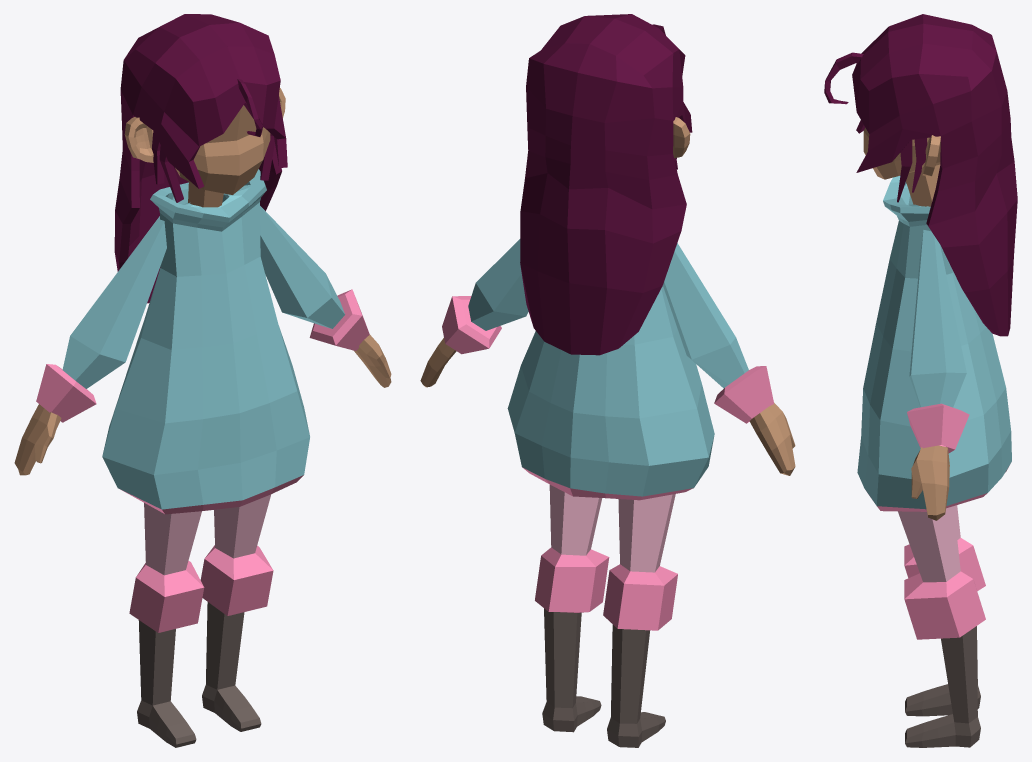
Rendered from lara.fbx.
3 views of the same model, side by side, from view 1: azimuth 30°, elevation 25°; view 2: azimuth 150°, elevation 25°; view 3: azimuth 270°, elevation 25° (orthographic).
Visible parts, largest first — view 1: body, hair, legs, arms, head, hands, ears, neck; view 2: hair, body, legs, arms, hands; view 3: hair, body, legs, arms, hands, neck, head, hairtail, ears.
Boxes of the visible parts, x1,y1,x2,y2 form: body: [102, 169, 309, 514]; hair: [114, 14, 287, 303]; legs: [129, 494, 273, 747]; arms: [36, 206, 369, 422]; head: [175, 105, 270, 194]; hands: [14, 334, 391, 475]; ears: [124, 88, 285, 162]; neck: [188, 182, 223, 207]; hair: [520, 14, 692, 355]; body: [507, 285, 714, 500]; legs: [535, 485, 677, 747]; arms: [442, 239, 773, 423]; hands: [420, 338, 795, 475]; hair: [852, 14, 1017, 336]; body: [857, 176, 1011, 511]; legs: [898, 505, 985, 747]; arms: [907, 230, 969, 453]; hands: [911, 445, 949, 520]; neck: [906, 164, 940, 206]; head: [863, 128, 940, 179]; hairtail: [824, 52, 863, 104]; ears: [921, 135, 940, 176].
Bounding box in the file's own units: 208 × 380 × 94.92.
13 materials, 10 textured.
